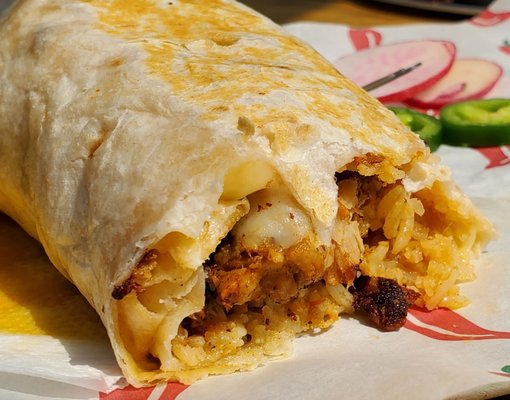soup: (0, 1, 497, 383)
